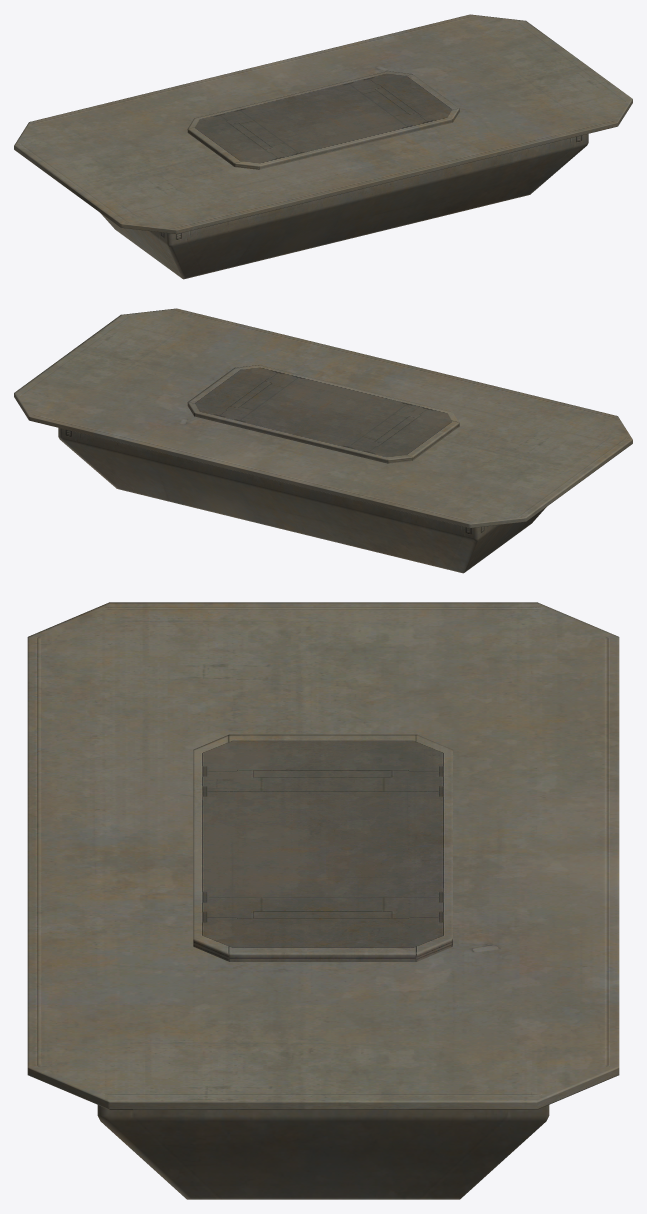
The model's file is tau_livingarea_table.DAE.
3 views of the same model, one above another, from view 1: azimuth 30°, elevation 25°; view 2: azimuth 150°, elevation 25°; view 3: azimuth 270°, elevation 25° (orthographic). The views are drawn at different scales.
Visible parts, largest first — view 1: Box001; view 2: Box001; view 3: Box001.
Part boxes in pixels (x1=…): Box001: x1=14, y1=14, x2=632, y2=279; Box001: x1=14, y1=308, x2=632, y2=573; Box001: x1=27, y1=602, x2=619, y2=1199.
Bounding box in the file's own units: 6 × 1.05 × 3.
